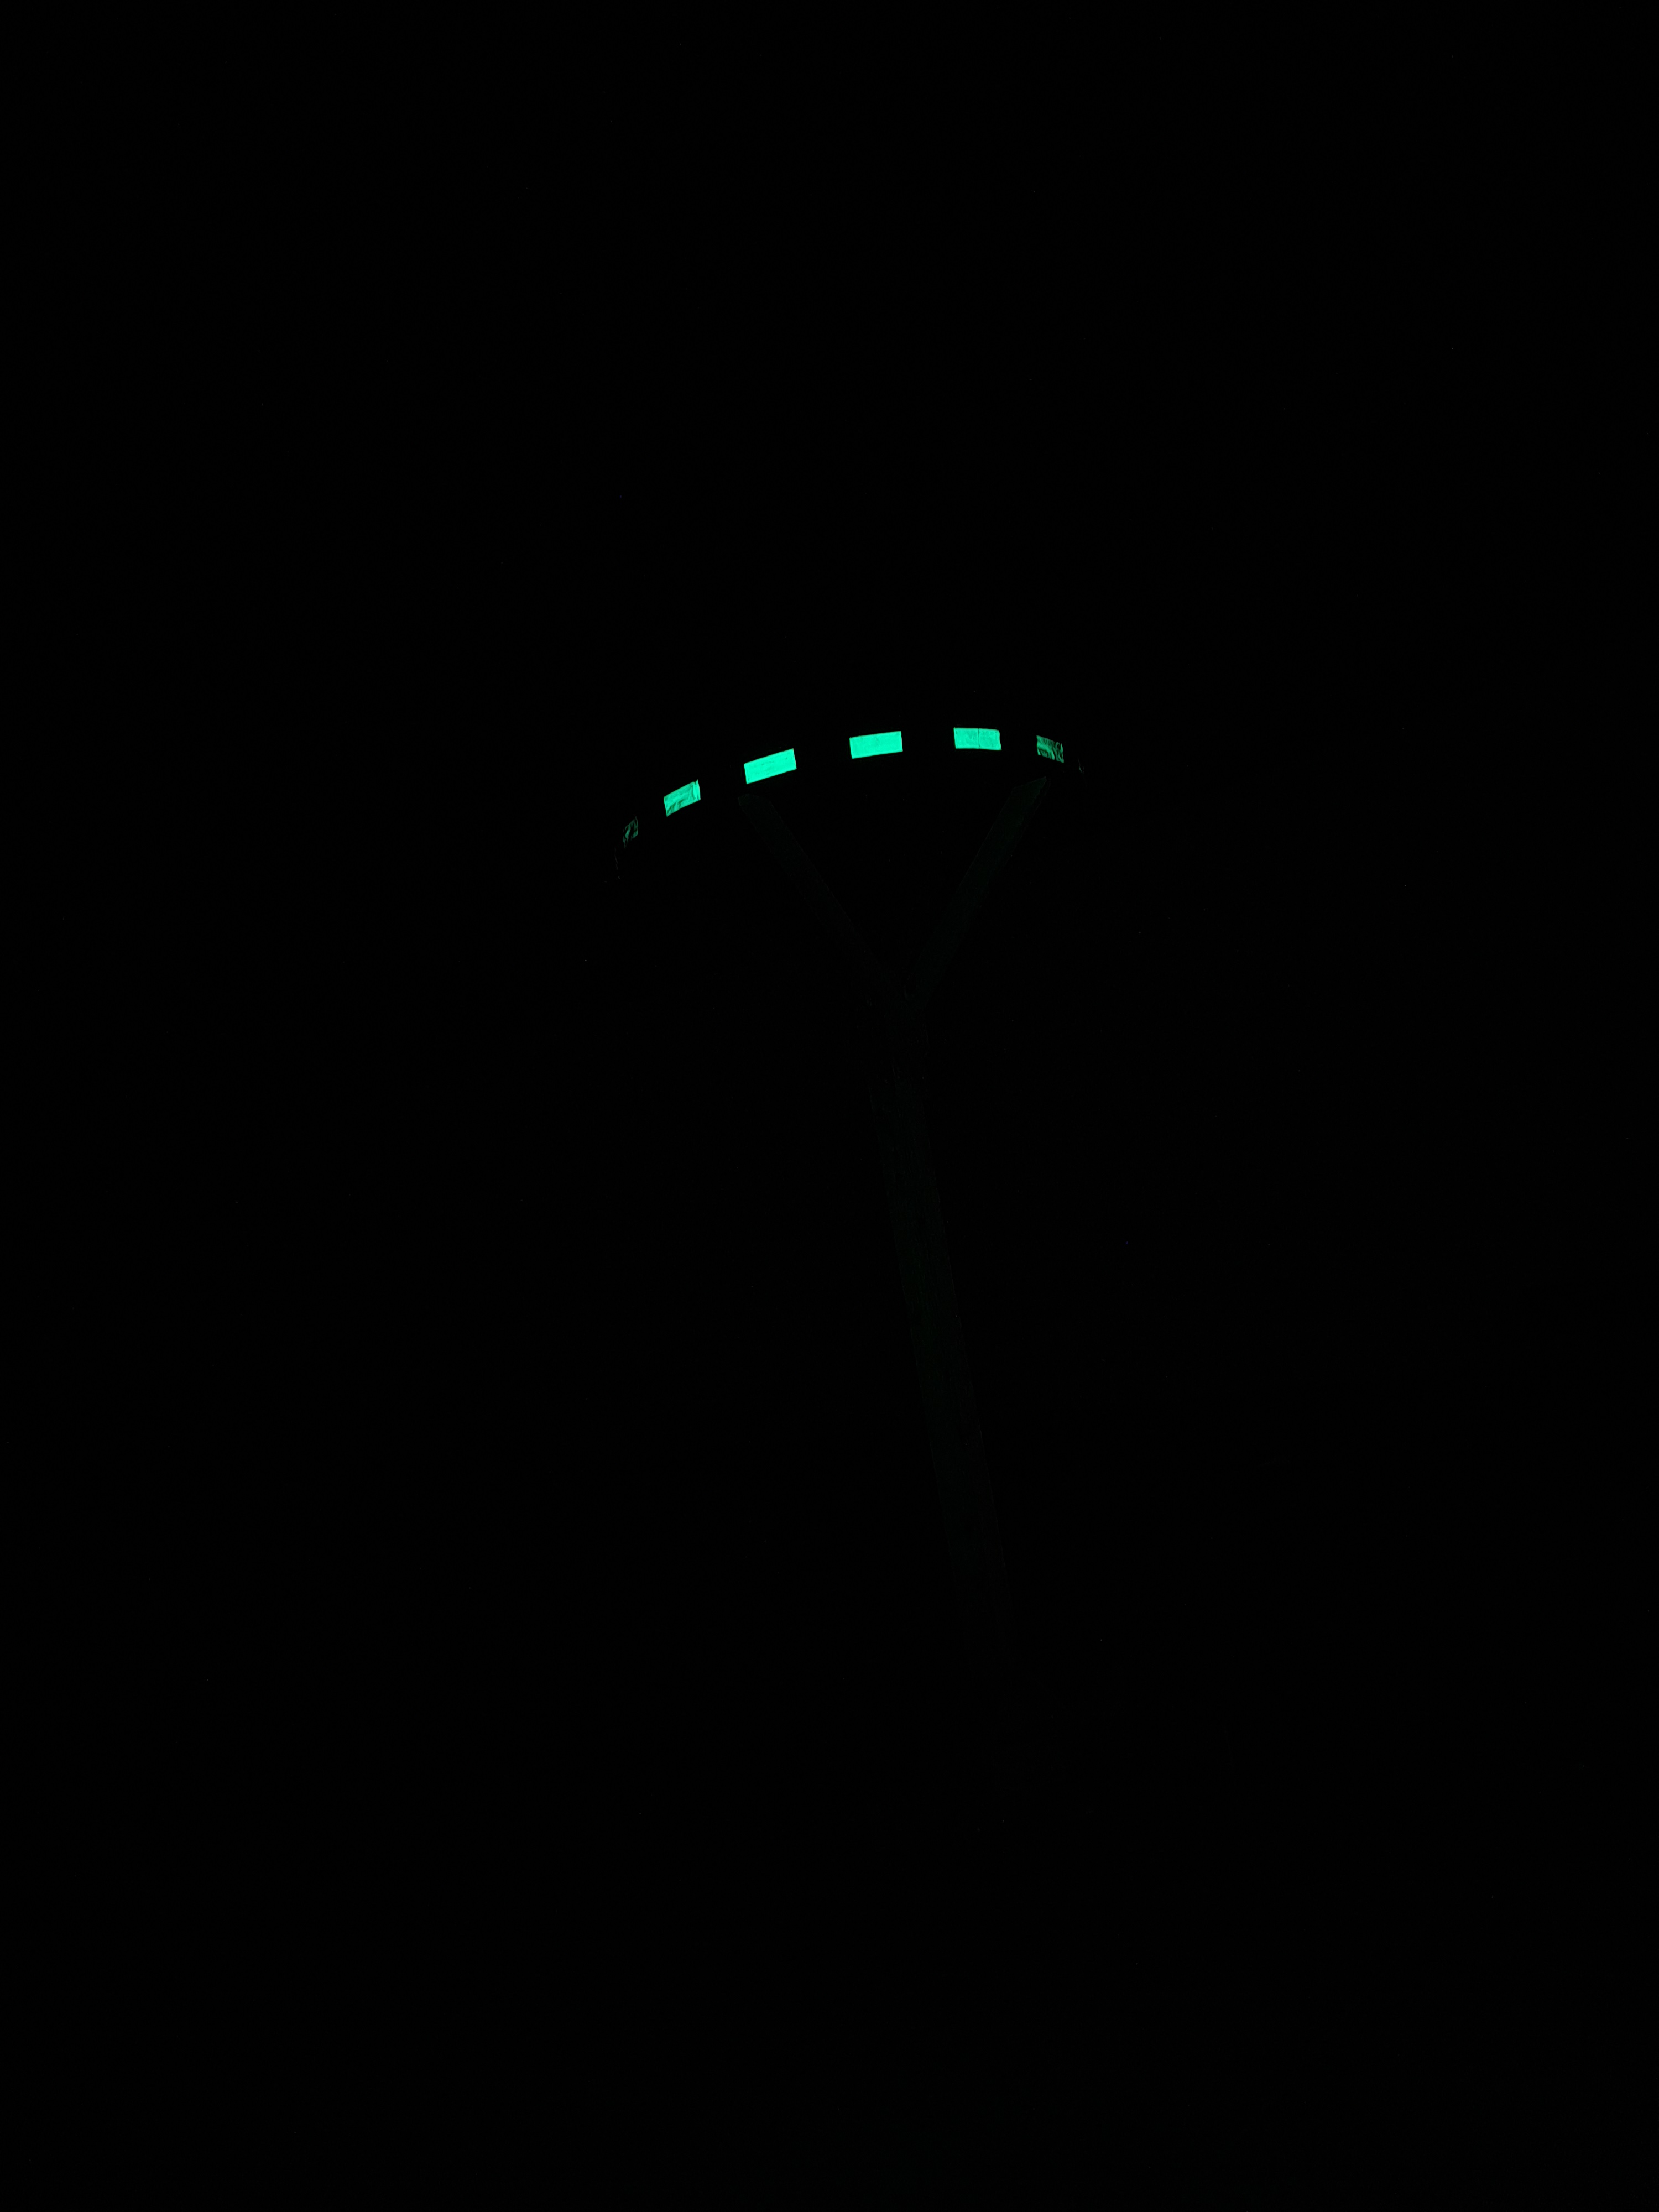hoop: (619, 721, 1072, 846)
